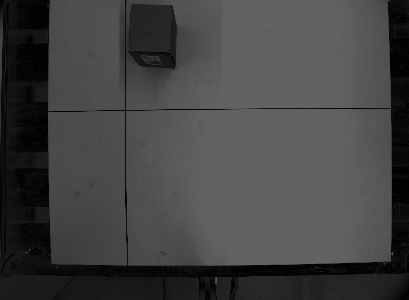b5: (125, 2, 180, 70)
